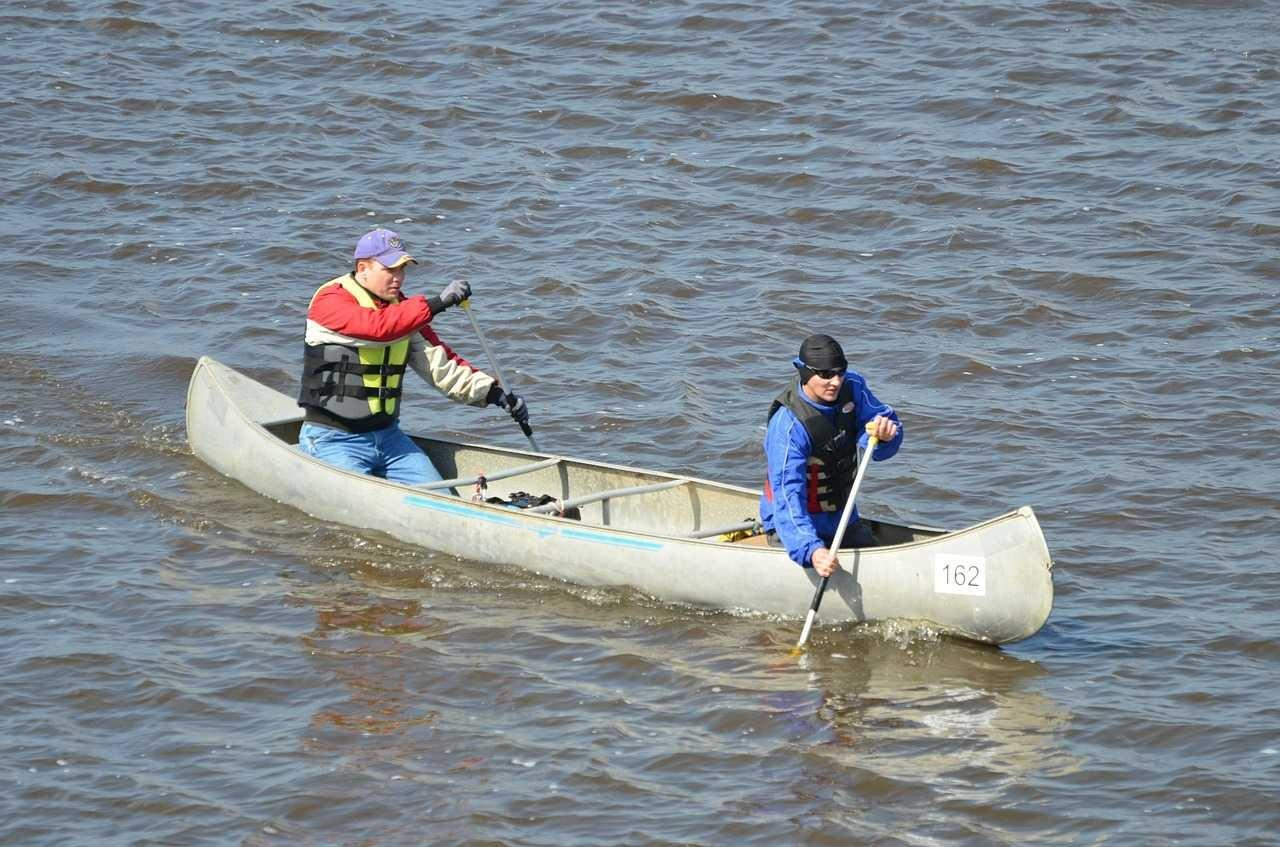kayak: (185, 354, 1052, 639)
